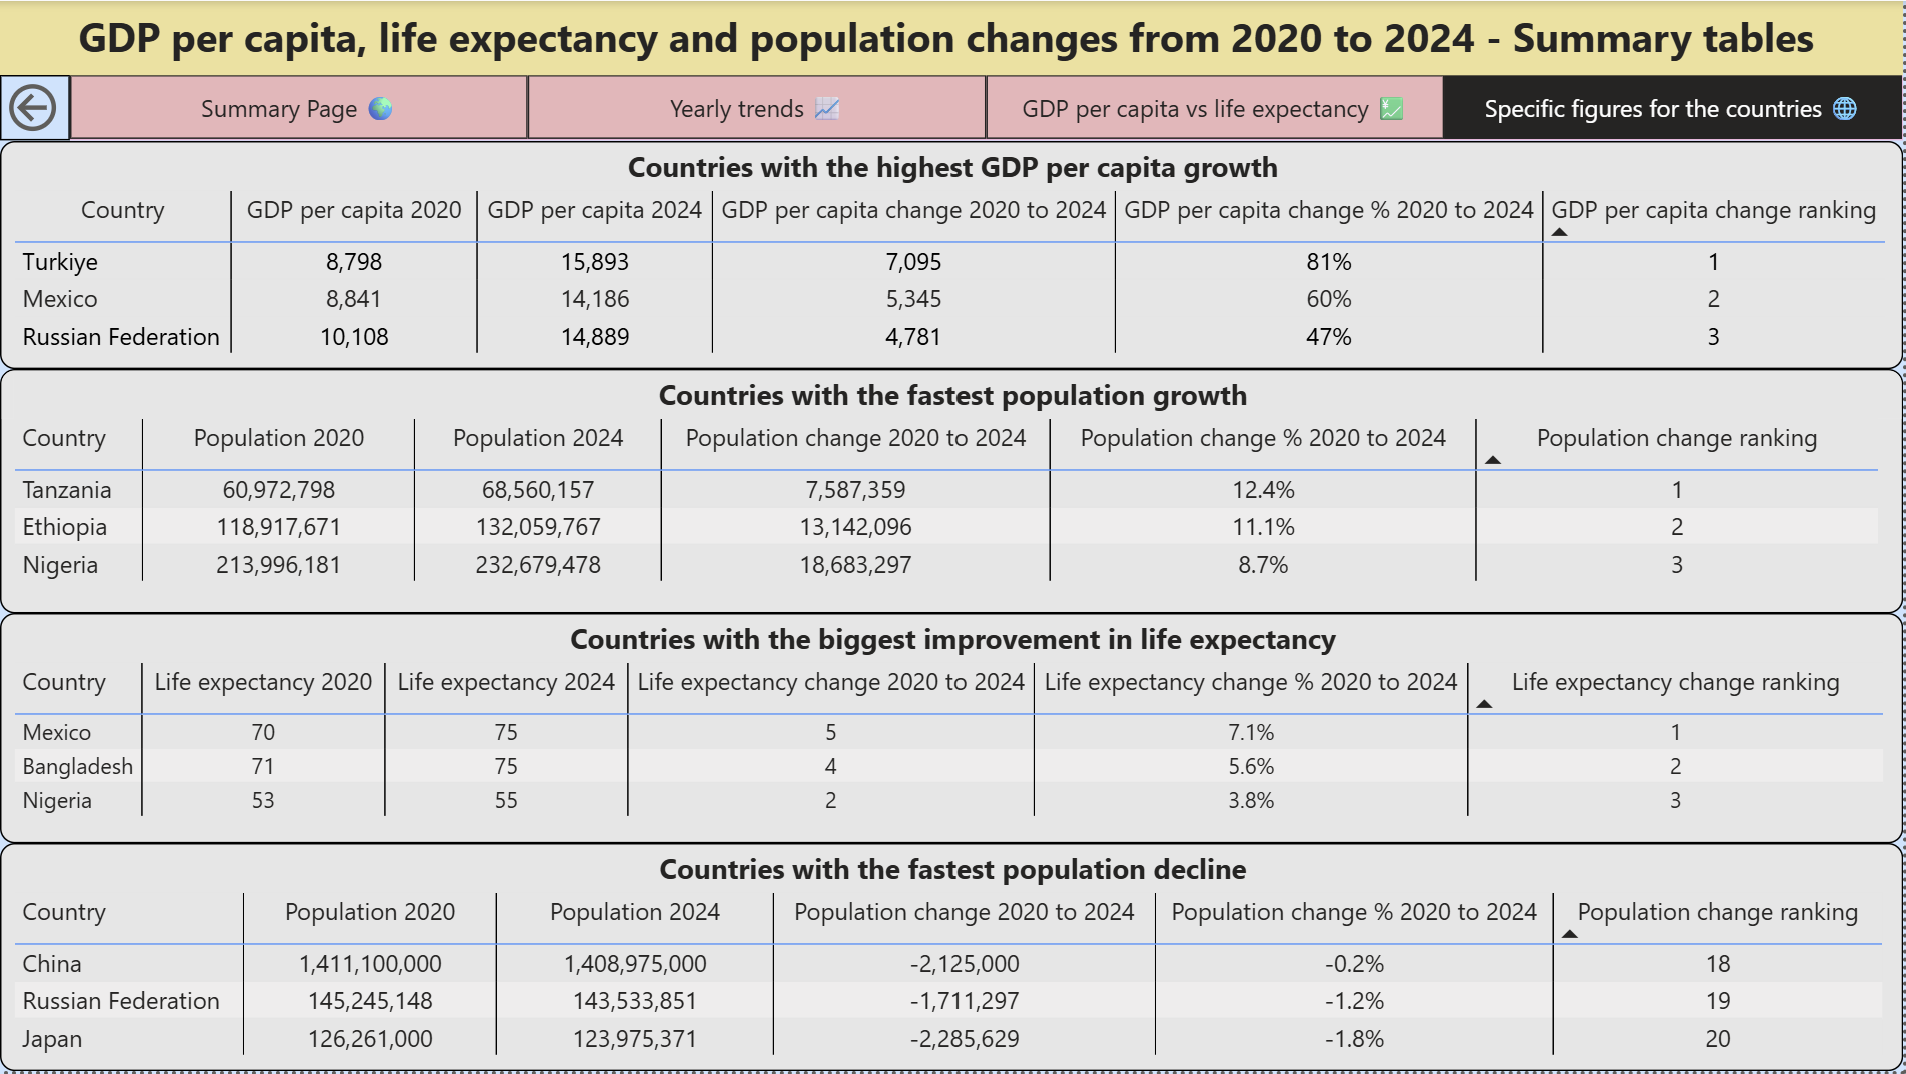

The dashboard page shown, as its layout file describes it:
{"tool":"powerbi","page":{"name":"Specific figures for the countries 🌐 ","canvas":[1280,720],"ordinal":4},"visuals":[{"type":"tableEx","title":"Countries with the highest GDP per capita growth","fields":{"Values":["MARTS_GDP_PER_CAPITA_FINAL.COUNTRY","Sum(MARTS_GDP_PER_CAPITA_FINAL.GDP_PER_CAPITA_2020)","Sum(MARTS_GDP_PER_CAPITA_FINAL.GDP_PER_CAPITA_2024)","Sum(MARTS_GDP_PER_CAPITA_FINAL.GDP per capita change 2020 to 2024)","Sum(MARTS_GDP_PER_CAPITA_FINAL.GDP per capita growth 2020 to 2024)","Sum(MARTS_GDP_PER_CAPITA_FINAL.GDP per capita growth ranking)"]},"box":[0,94,1280,153.5],"z":0},{"type":"tableEx","title":"Countries with the fastest population growth","fields":{"Values":["MARTS_POPULATIONS_FINAL.COUNTRY","Sum(MARTS_POPULATIONS_FINAL.POPULATION_2020)","Sum(MARTS_POPULATIONS_FINAL.POPULATION_2024)","Sum(MARTS_POPULATIONS_FINAL.Population change 2020 to 2024)","Sum(MARTS_POPULATIONS_FINAL.Population growth 2020 to 2024)","Sum(MARTS_POPULATIONS_FINAL.Population growth ranking)"]},"box":[0,247.5,1280,164.5],"z":1000},{"type":"tableEx","title":"Countries with the biggest improvement in life expectancy","fields":{"Values":["MARTS_LIFE_EXPECTANCY_FINAL.COUNTRY","Sum(MARTS_LIFE_EXPECTANCY_FINAL.LIFE_EXPECTANCY_2020)","Sum(MARTS_LIFE_EXPECTANCY_FINAL.LIFE_EXPECTANCY_2024)","Sum(MARTS_LIFE_EXPECTANCY_FINAL.Life expectancy change 2020 to 2024)","Sum(MARTS_LIFE_EXPECTANCY_FINAL.Life expectancy 2020 to 2024)","Sum(MARTS_LIFE_EXPECTANCY_FINAL.Life expectancy improvement ranking)"]},"box":[0,412,1280,155.1],"z":2000},{"type":"tableEx","title":"Countries with the fastest population decline","fields":{"Values":["MARTS_POPULATIONS_FINAL.COUNTRY","Sum(MARTS_POPULATIONS_FINAL.POPULATION_2020)","Sum(MARTS_POPULATIONS_FINAL.POPULATION_2024)","Sum(MARTS_POPULATIONS_FINAL.Population change 2020 to 2024)","Sum(MARTS_POPULATIONS_FINAL.Population growth 2020 to 2024)","Sum(MARTS_POPULATIONS_FINAL.Population growth ranking)"]},"box":[0,567.1,1280,153.5],"z":3000},{"type":"pageNavigator","box":[47,50.1,1233,43.9],"z":4000},{"type":"textbox","box":[0,0,1280,50.1],"z":5000},{"type":"actionButton","box":[0,50.1,47,43.9],"z":6000}]}

Visuals, with their boxes in screenshot pixels (x1, y1, x2, y2), scaled from the page's 1280x720 canvas onto the 1906x1074 screenshot:
"Countries with the highest GDP per capita growth" tableEx: 0,140,1905,369
"Countries with the fastest population growth" tableEx: 0,369,1905,615
"Countries with the biggest improvement in life expectancy" tableEx: 0,615,1905,846
"Countries with the fastest population decline" tableEx: 0,846,1905,1073
pageNavigator: 70,75,1905,140
textbox: 0,0,1905,75
actionButton: 0,75,70,140
